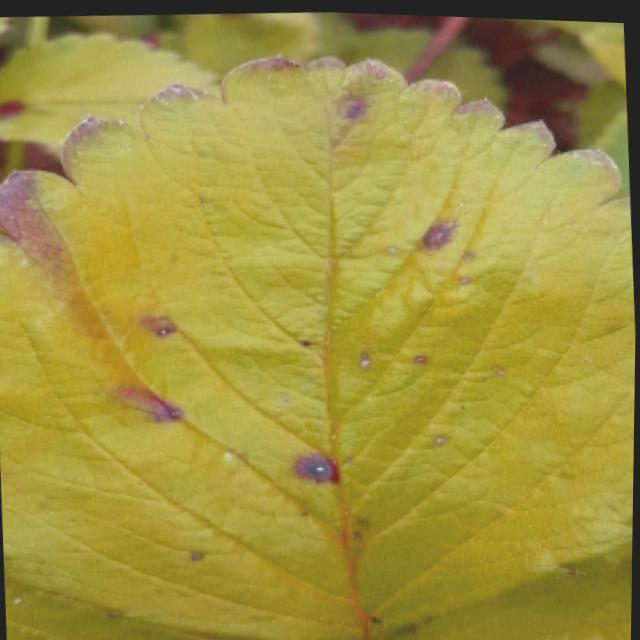Leaf Spot: (0, 49, 636, 640), (0, 30, 220, 161), (346, 543, 634, 640), (6, 576, 304, 640)
